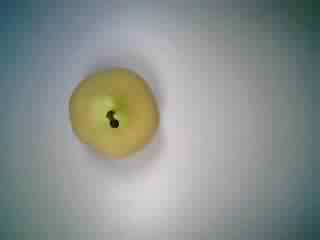pear: (63, 63, 162, 166)
